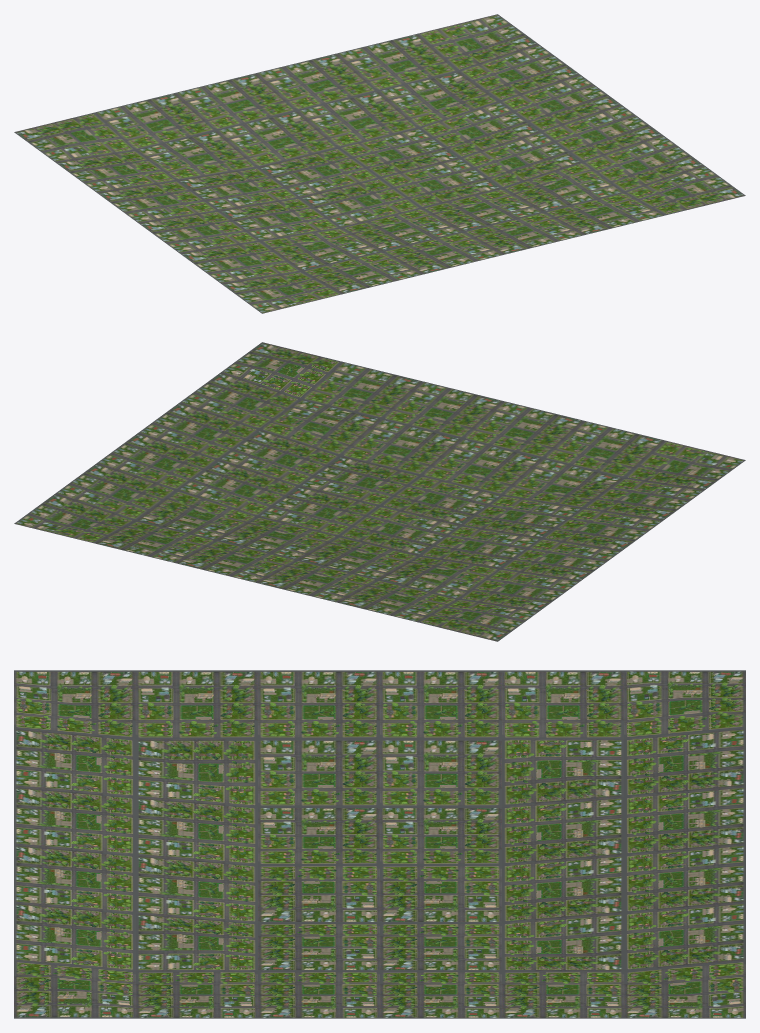
Rendered from BLOCK_HOODFAR.glb.
3 renders of one model, top to bottom at view 1: azimuth 30°, elevation 25°; view 2: azimuth 150°, elevation 25°; view 3: azimuth 270°, elevation 25°, orthographic. The views are drawn at different scales.
Visible parts, largest first — view 1: BLOCK_HOODFAR; view 2: BLOCK_HOODFAR; view 3: BLOCK_HOODFAR.
Boxes of the visible parts, <box> form: BLOCK_HOODFAR: <box>14,14,745,313</box>; BLOCK_HOODFAR: <box>14,342,745,641</box>; BLOCK_HOODFAR: <box>14,670,745,1018</box>.
Bounding box in the file's own units: 5312 × 146 × 4720.
1 material, 1 textured.
